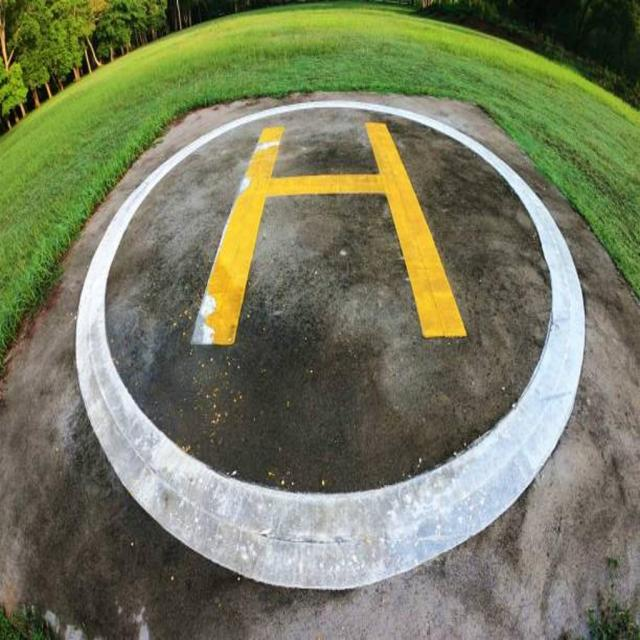helipad: (71, 98, 587, 593)
